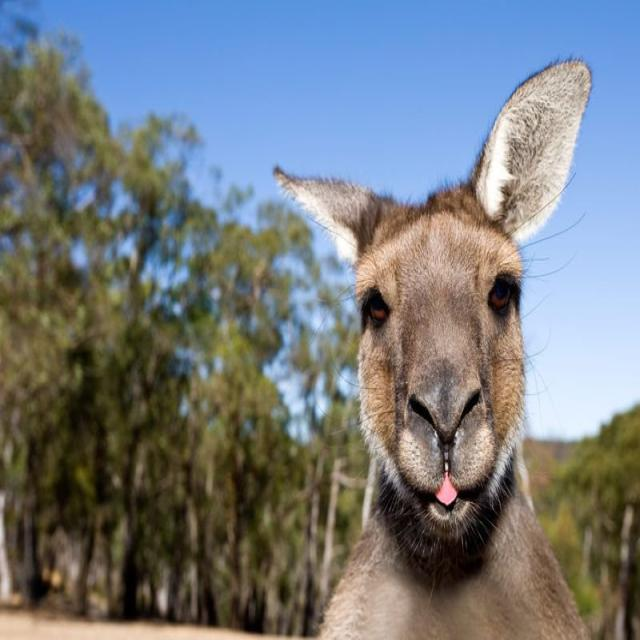Kangaroo: (266, 55, 600, 640)
